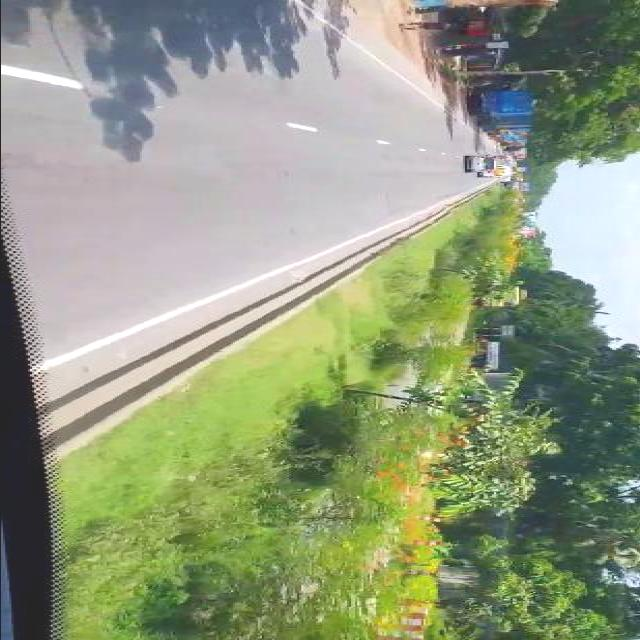car: (464, 153, 502, 173)
